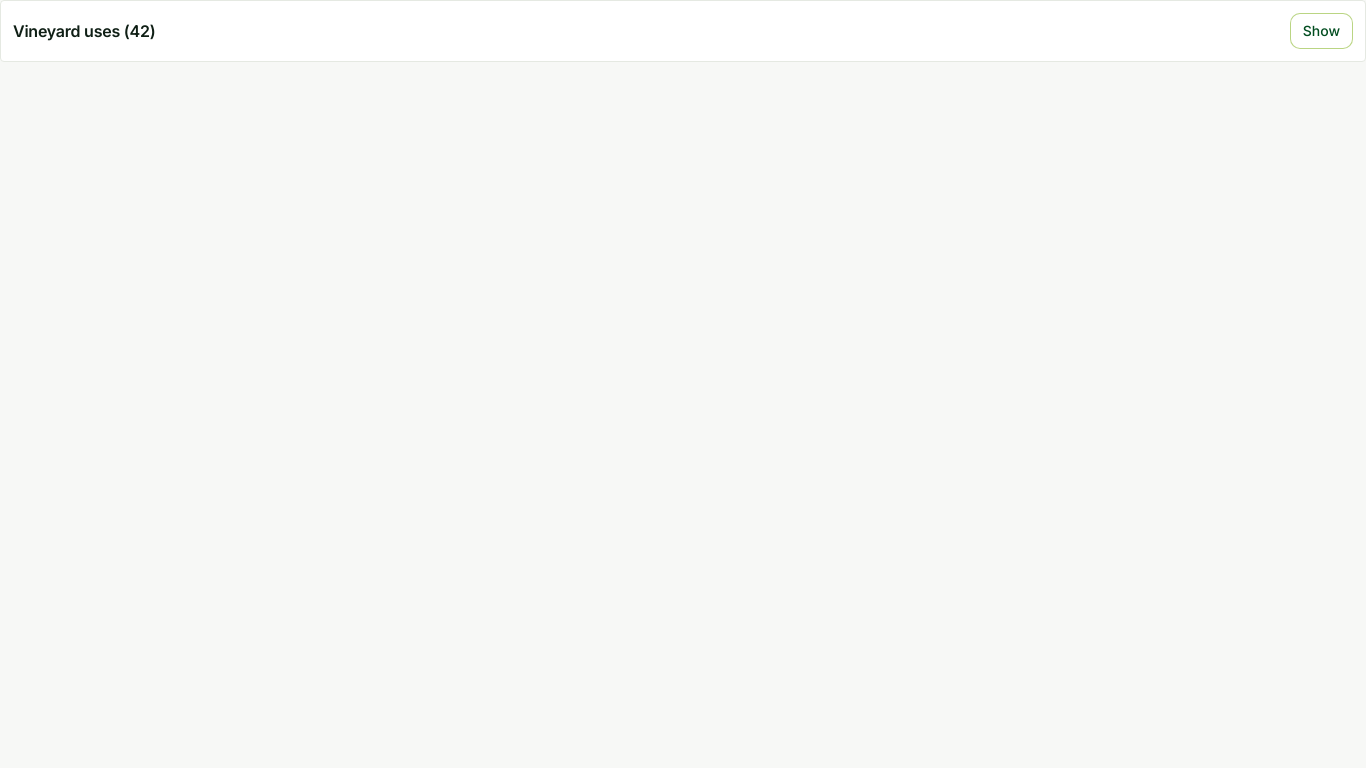
Test case: Layout › 13-14. uses collapsed by default, two columns on desktop when shown
Check: the heading "Vineyard uses (42)" is shown, box [13, 19, 155, 43]
What coordinates should you click on to do the following:
click the button "Show"
I would click on:
 (1321, 31)
Its box is [1290, 13, 1353, 49].
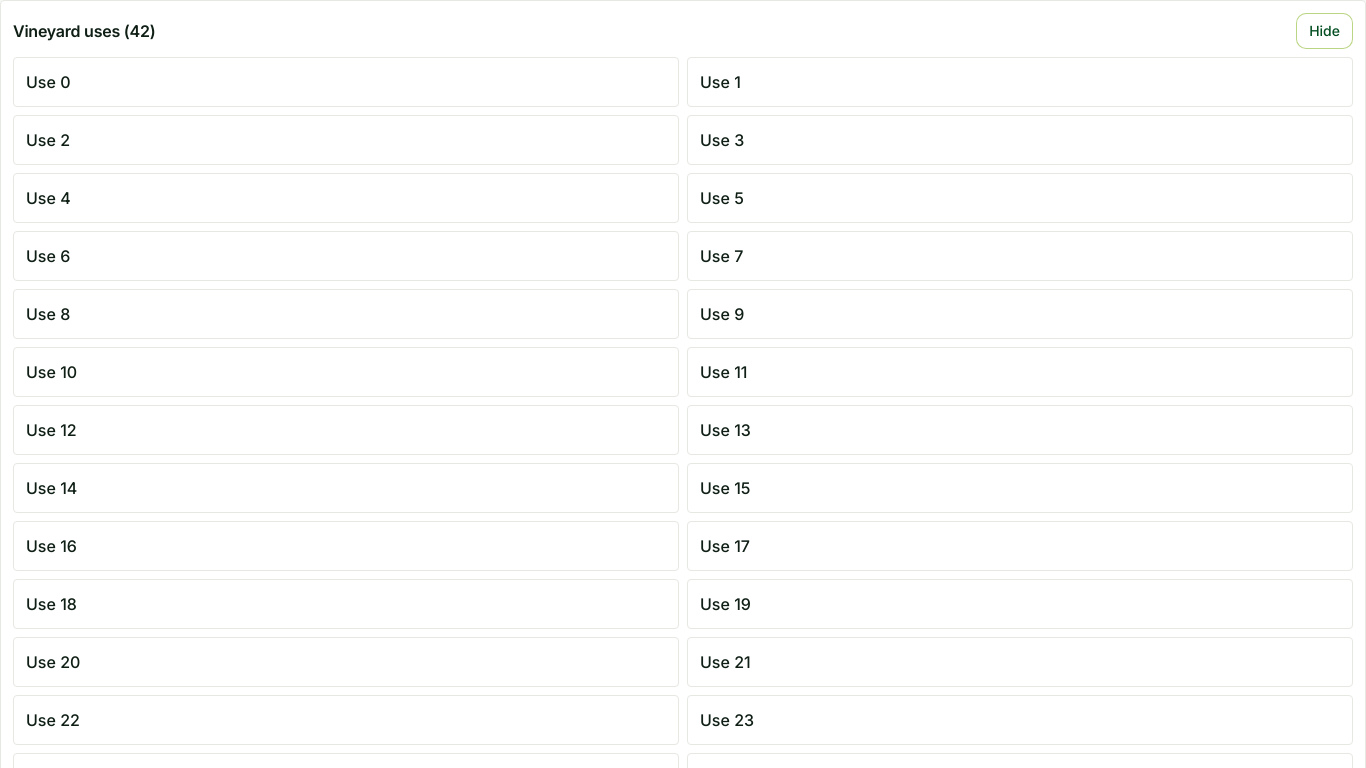
Check: the number of elements with test id "v3-use-card" is 42
Check: the button "Hide" is shown, box [1296, 13, 1353, 49]
